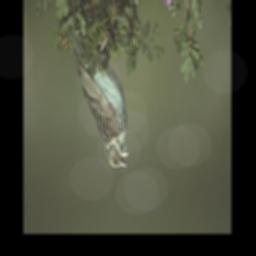Sparrow: (67, 18, 130, 179)
